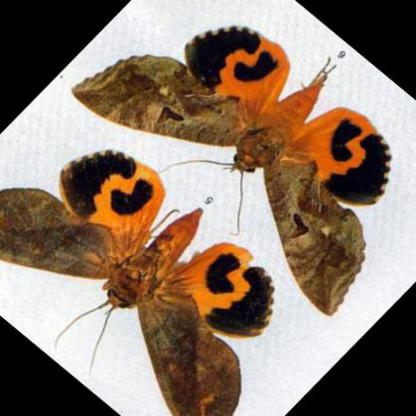fruit sucking moth: (74, 25, 392, 315), (0, 150, 279, 412)
